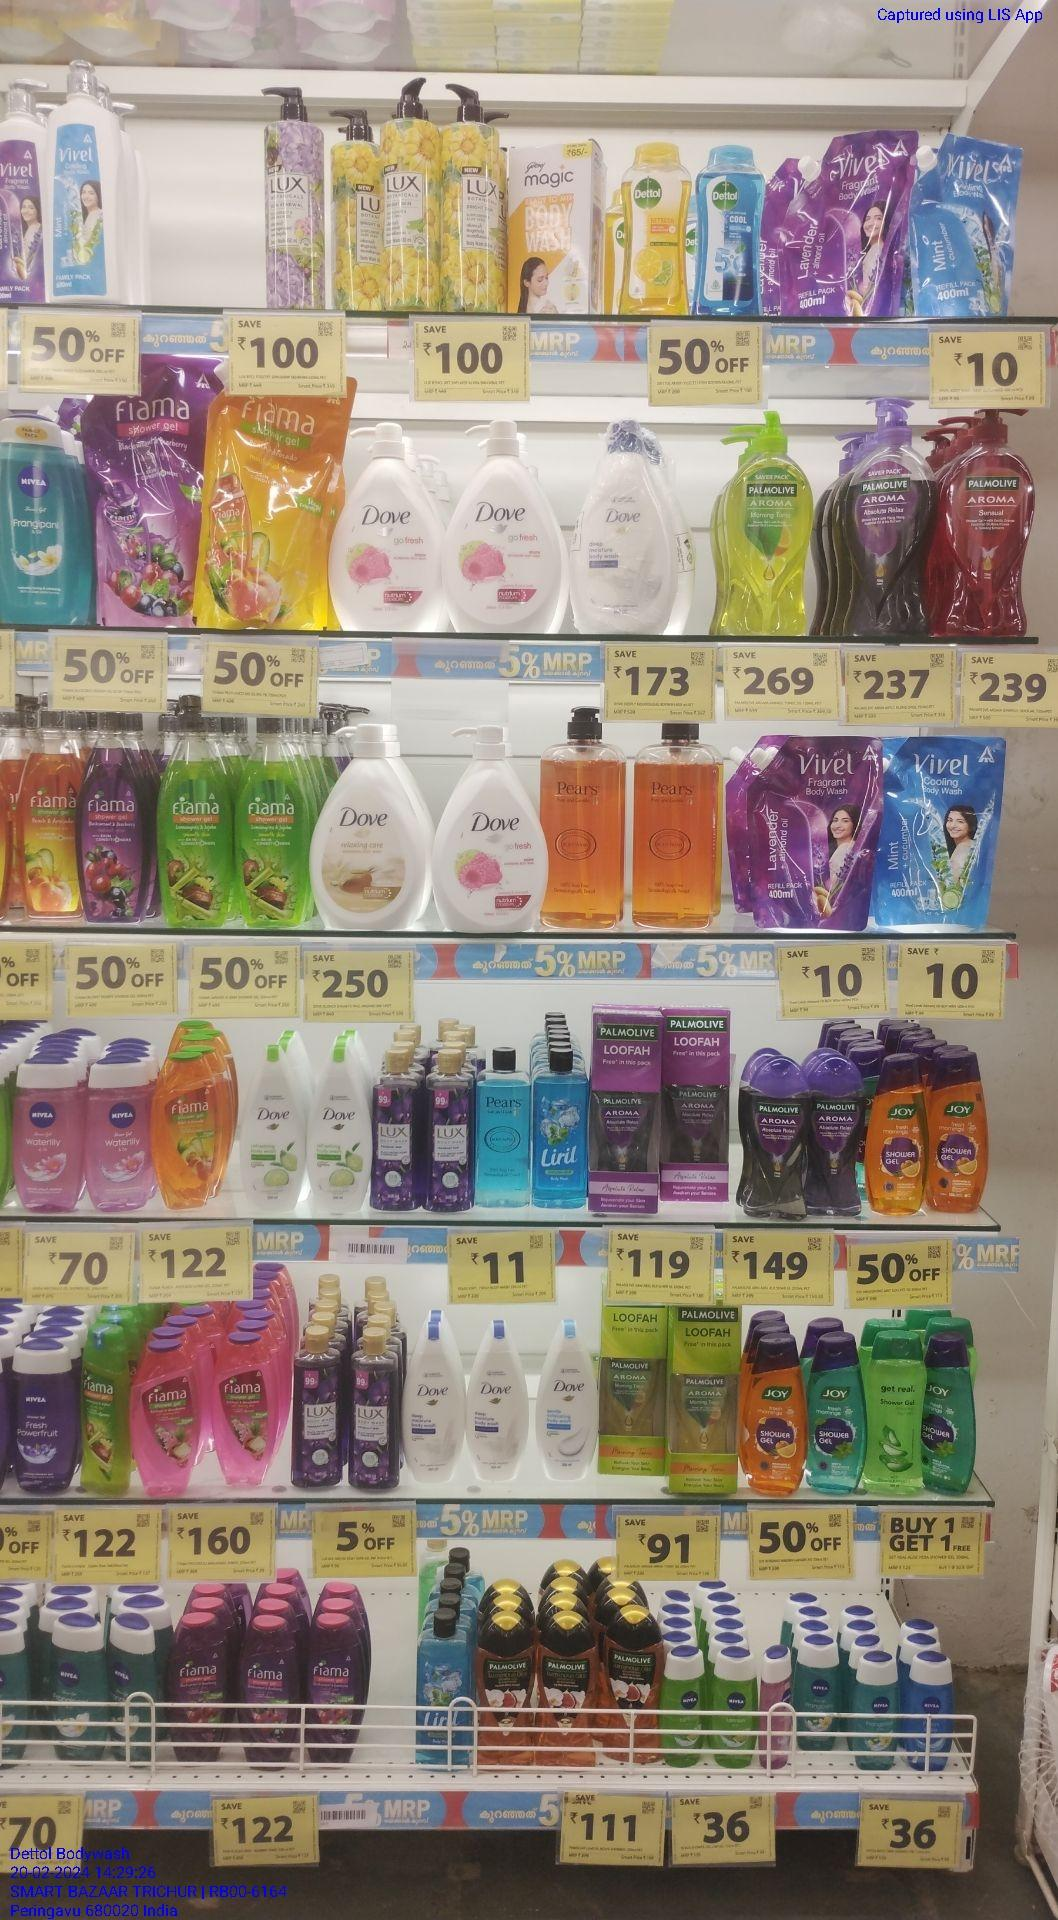Dettol_Bodywash_Cool: (700, 141, 762, 319)
Dettol_Bodywash_Refresh: (615, 141, 693, 317)
Dove_Deep_Moisture_Body_Wash_250ML: (404, 1321, 466, 1486), (469, 1320, 530, 1484)
Dove_Gentle_Exfoliating_Body_Wash_250ML: (534, 1316, 598, 1482)
Dove_Refreshing_Body_Wash_250ML: (240, 1045, 306, 1214), (310, 1043, 373, 1211)
Fiama_Shower_Gel_Lemongrass_and_Jojoba_250ML: (77, 1322, 129, 1494)
Fiama_Shower_Gel_Patchouli_and_Macadamia_250ML: (133, 1338, 202, 1495), (211, 1333, 280, 1489)
Fiama_Shower_Gel_Peach_and_Avocado_250ML: (155, 1045, 224, 1210)
Joy_Shower_Gel_Mandarin_and_Lemongrass_250ML: (740, 1335, 805, 1498), (929, 1052, 986, 1211), (870, 1054, 925, 1214)
Joy_Shower_Gel_Mint_and_Eucalyptus_250ML: (809, 1331, 866, 1493)
Liril_Cooling_Mint_Body_Wash_250ML: (417, 1610, 476, 1766), (533, 1047, 589, 1210)
Lux_Black_Orchid_Scent_and_Juniper_Oil_Body_Wash_245ML: (291, 1326, 344, 1488), (423, 1046, 476, 1211), (349, 1327, 399, 1490), (375, 1046, 421, 1211)
Nivea_Shower_Gel_Frangipani_and_Oil_250ML: (1, 408, 94, 628), (47, 1613, 108, 1765), (848, 1650, 900, 1772), (796, 1635, 839, 1753)
Nivea_Shower_Gel_Fresh_Powerfruit_250ML: (12, 1336, 74, 1491)
Nivea_Shower_Gel_Lemon_and_Oil_250ML: (711, 1646, 757, 1769), (665, 1645, 708, 1768)
Nivea_Shower_Gel_Waterlily_and_Oil_250ML: (13, 1059, 83, 1213), (86, 1056, 151, 1210)
Palmolive_Aroma_Relax_250ML: (743, 1055, 809, 1219), (813, 1059, 866, 1215)
Palmolive_Luminous_Oils_With_White_Orchid_Shower_Gel_250ML: (539, 1611, 597, 1768), (605, 1606, 662, 1762), (479, 1610, 534, 1772)
Pears_Pure_Glycerin_and_Mint_Extracts_Body_Wash_250ML: (478, 1047, 529, 1207)
